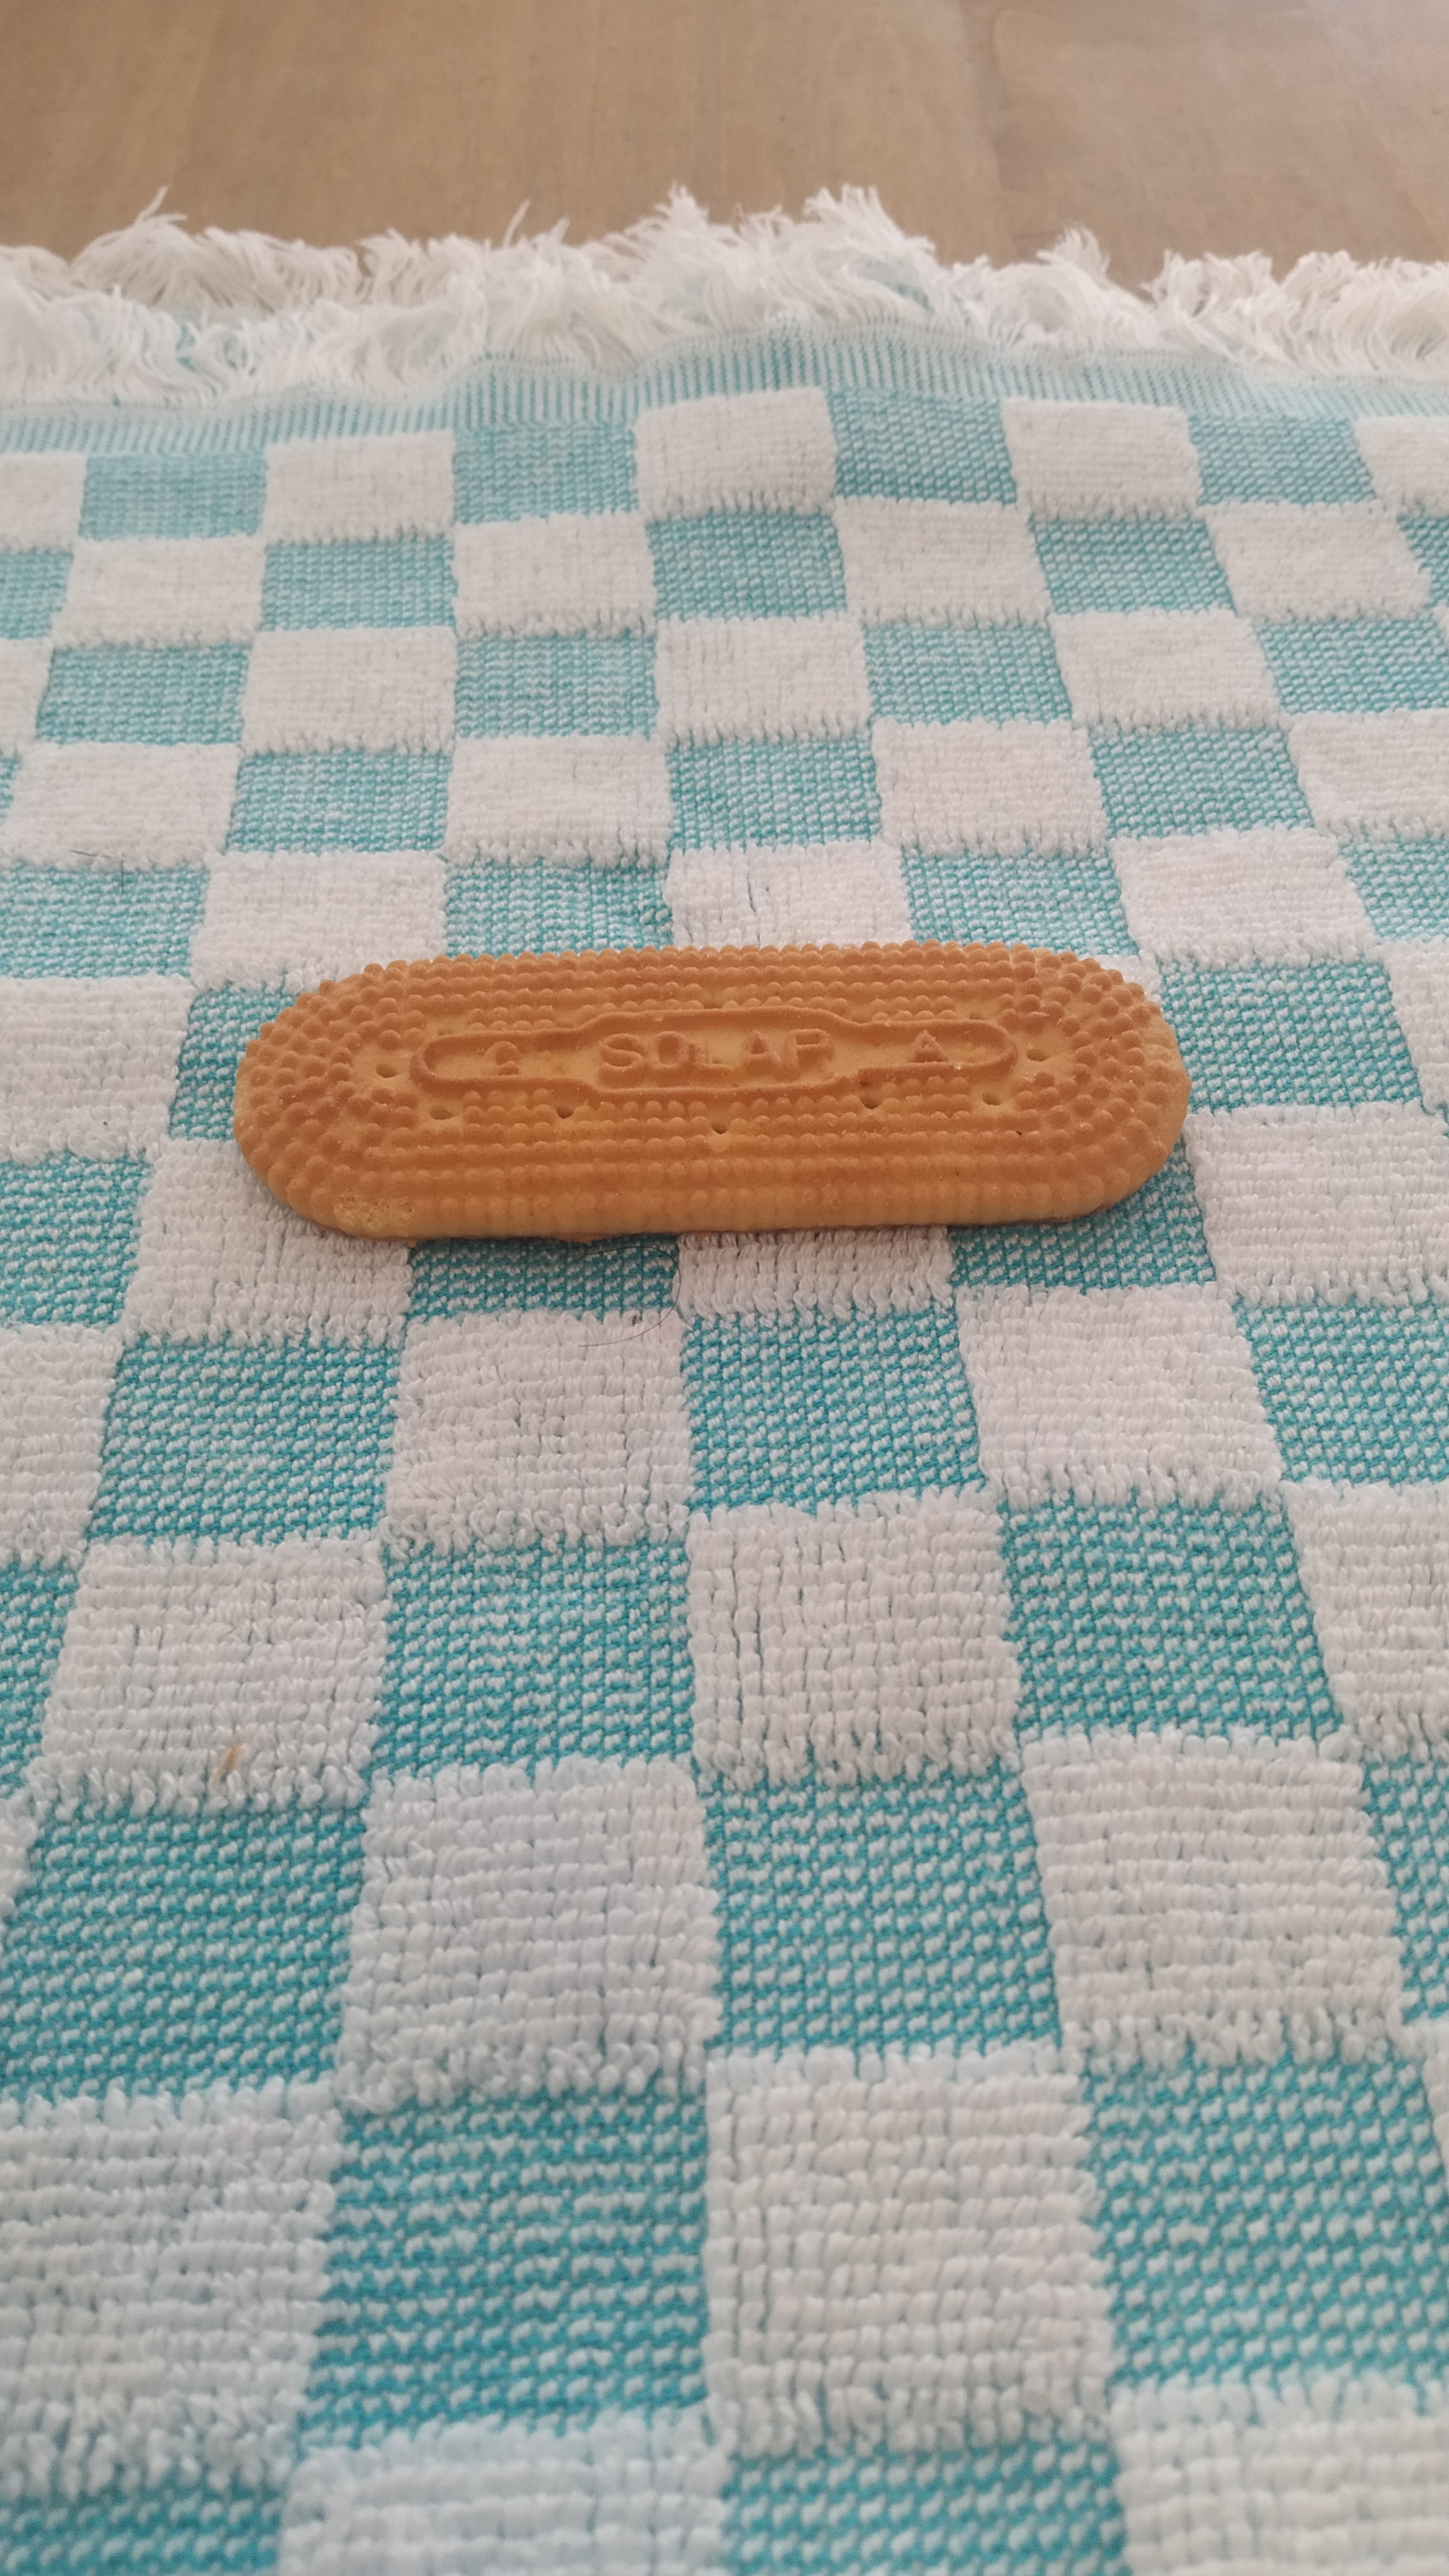solar: (234, 941, 1187, 1238)
